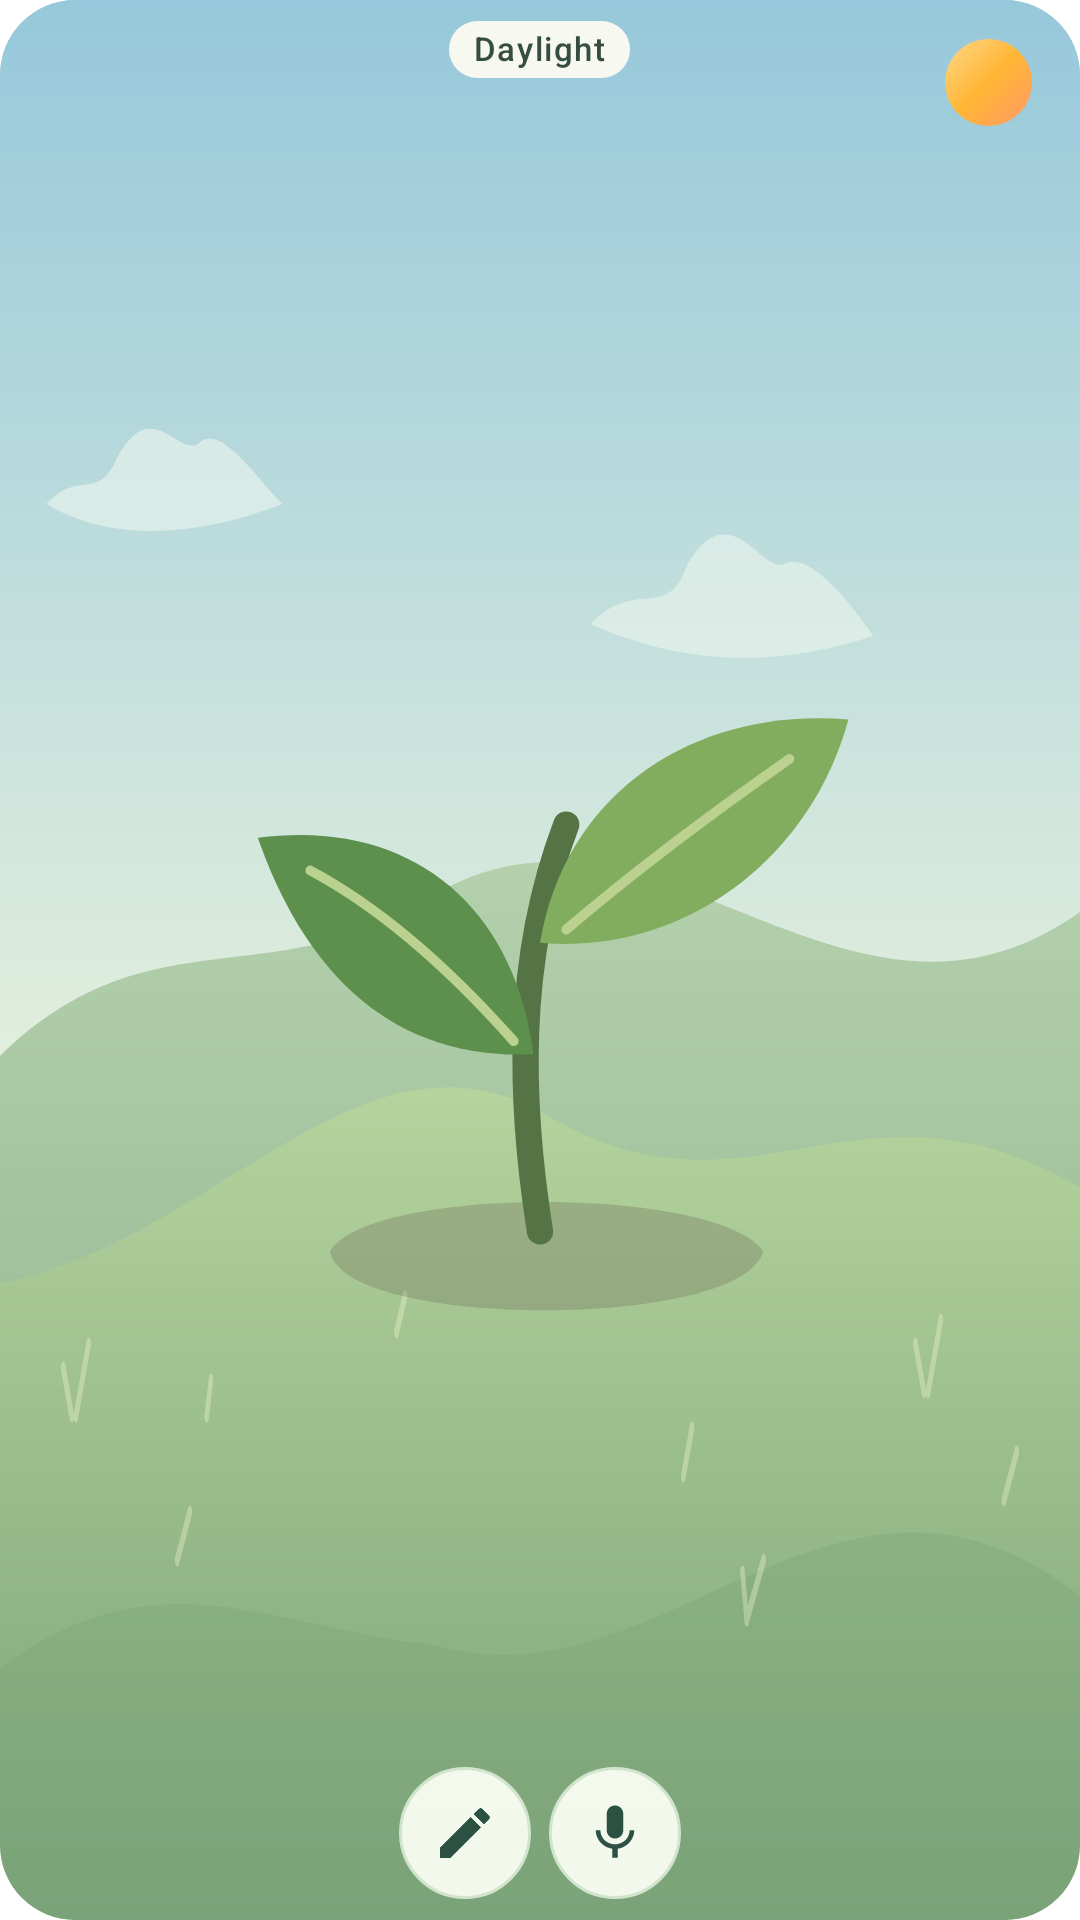

Icons on this 1080px×1920px Android screen, each with the point to tap as (x,y):
Talk a check-in: (615,1833)
Write a check-in: (465,1833)
